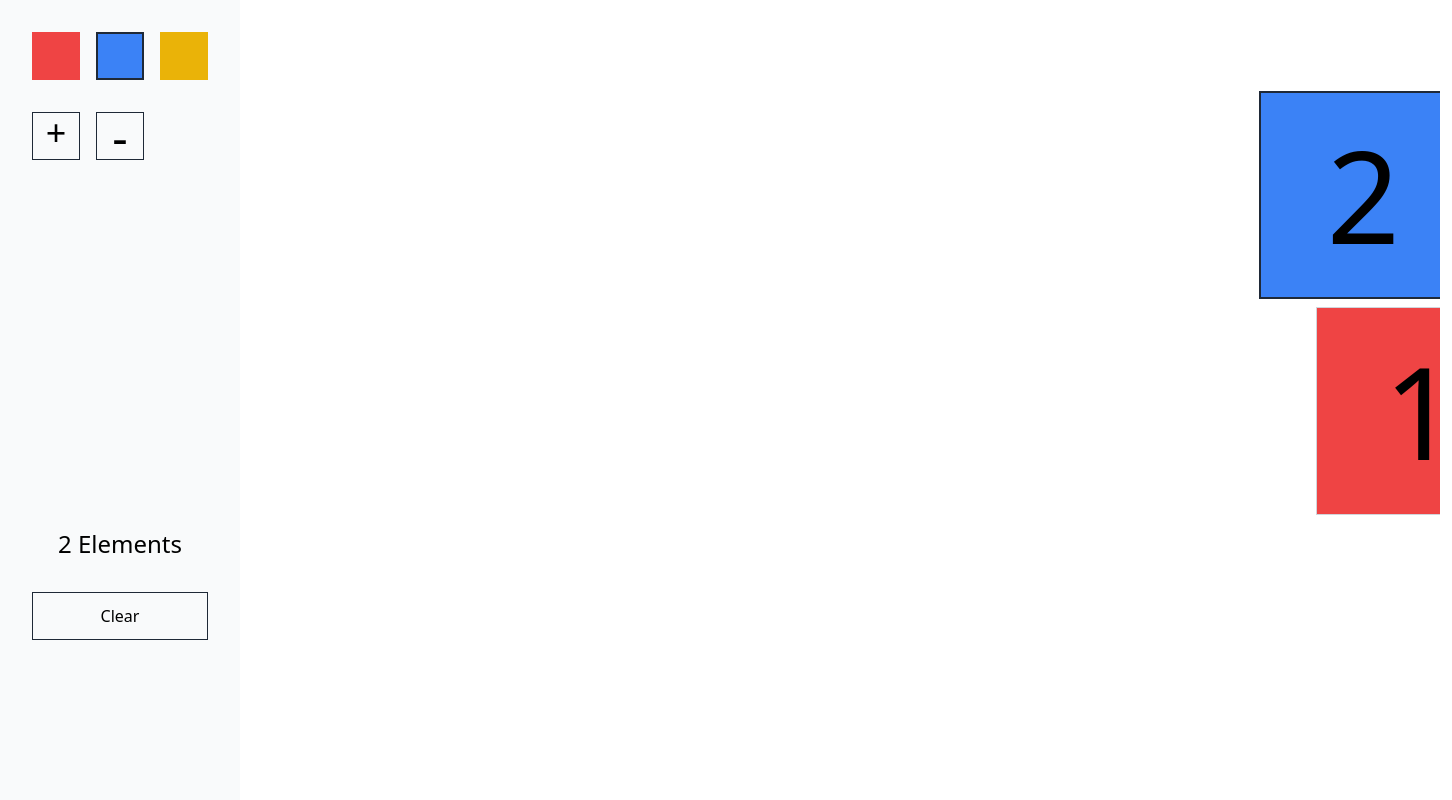
Test: Draw colorful boxes › Add box with Yellow color
The width and height of the screenshot is (1452, 800).
Click the 3rd element with test id "box-with-color".
click(184, 56)  # box [160,32,208,80]
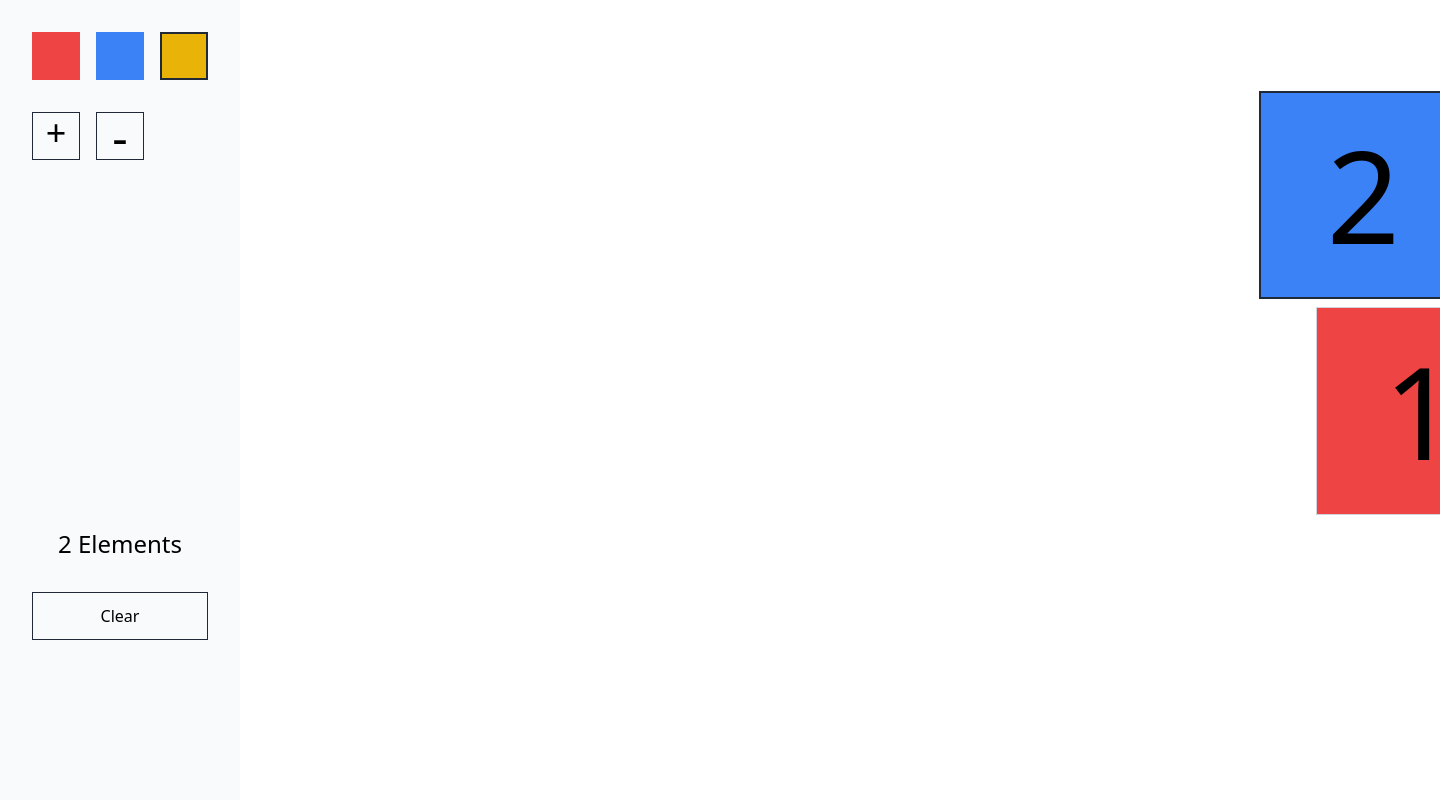
Click the element with test id "plus-button".
click(56, 136)  # box [32,112,80,160]
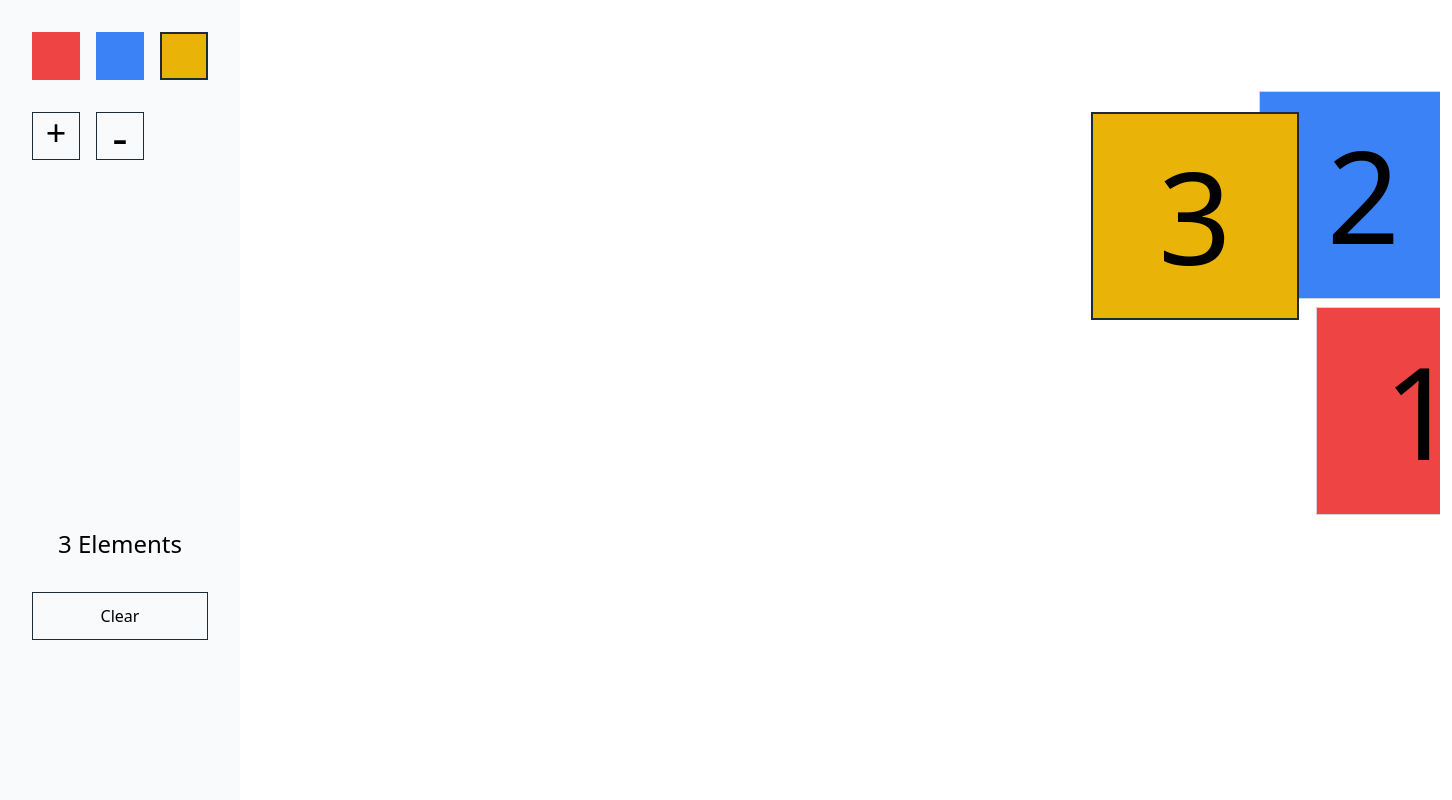
Result: the element with test id "color-box" reads "3" at [1091,112,1299,320]
